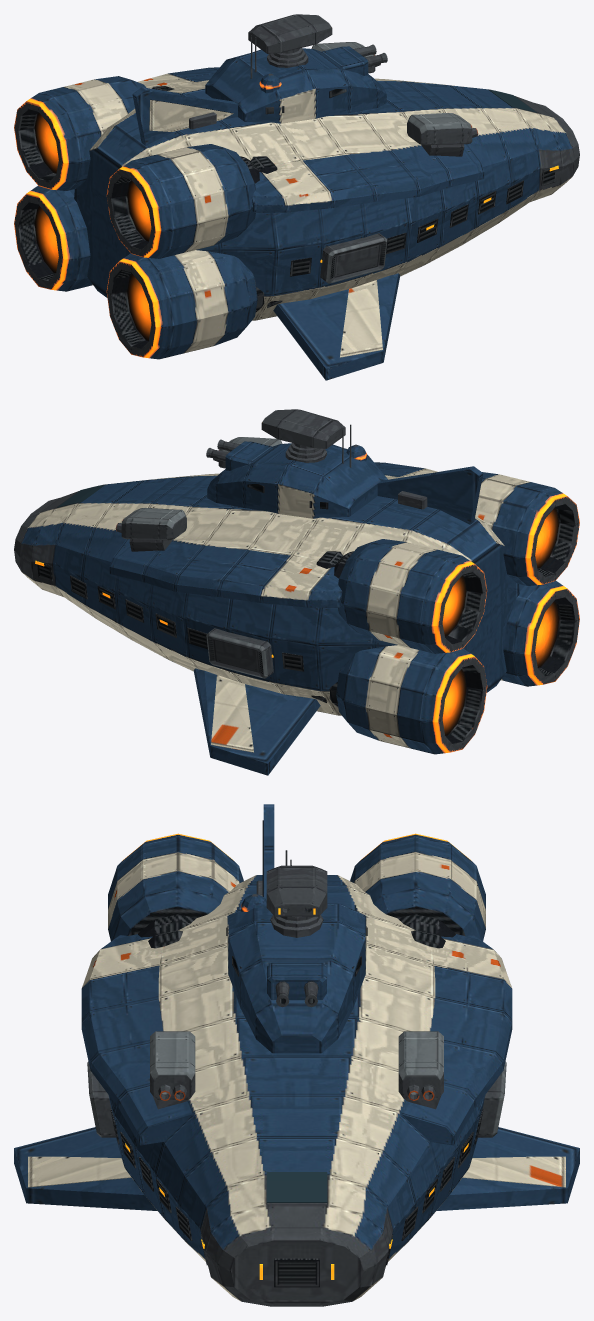
Rendered from vanguard.glb.
3 views of the same model, one above another, from view 1: azimuth 30°, elevation 25°; view 2: azimuth 150°, elevation 25°; view 3: azimuth 270°, elevation 25° (orthographic). The views are drawn at different scales.
Visible parts, largest first — view 1: Vanguard_Concept_Reconstruction; view 2: Vanguard_Concept_Reconstruction; view 3: Vanguard_Concept_Reconstruction.
Part boxes in pixels (left/top/right/bottom): Vanguard_Concept_Reconstruction: left=14, top=14, right=579, bottom=380; Vanguard_Concept_Reconstruction: left=14, top=409, right=579, bottom=775; Vanguard_Concept_Reconstruction: left=14, top=804, right=579, bottom=1306.
Bounding box in the file's own units: 2 × 1.05 × 1.62.
2 materials, 1 textured.
